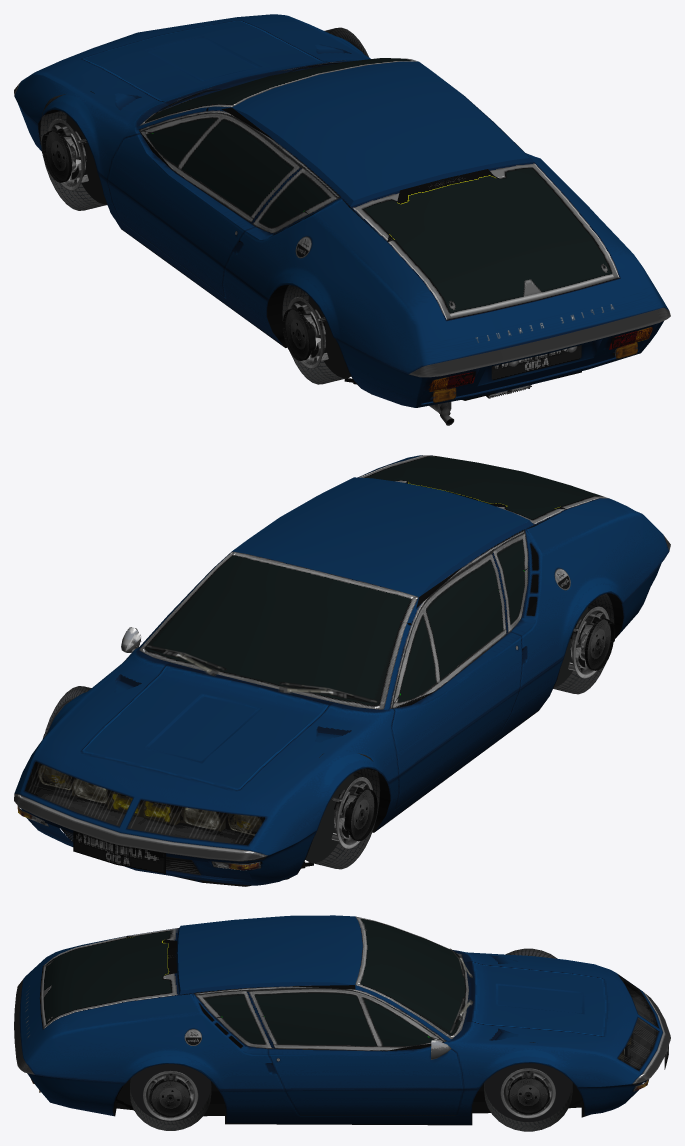
The model's file is GT4_ALPR0002.glb.
3 views of the same model, one above another, from view 1: azimuth 30°, elevation 25°; view 2: azimuth 150°, elevation 25°; view 3: azimuth 270°, elevation 25° (orthographic). The views are drawn at different scales.
Visible parts, largest first — view 1: body, tire_rear_right, tire_front_right, wheel_rear_right, wheel_front_right; view 2: body, tire_rear_right, tire_front_right, wheel_front_right, wheel_rear_right; view 3: body, tire_rear_left, tire_front_left, wheel_rear_left, wheel_front_left.
Boxes of the visible parts, x1,y1,x2,y2 form: body: [14, 14, 670, 425]; tire_rear_right: [40, 91, 107, 210]; tire_front_right: [282, 285, 350, 384]; wheel_rear_right: [47, 118, 88, 190]; wheel_front_right: [287, 297, 328, 368]; body: [14, 455, 670, 886]; tire_rear_right: [305, 753, 380, 869]; tire_front_right: [553, 593, 614, 694]; wheel_front_right: [568, 606, 609, 678]; wheel_rear_right: [331, 777, 372, 848]; body: [14, 915, 670, 1125]; tire_rear_left: [484, 1042, 572, 1131]; tire_front_left: [130, 1064, 211, 1130]; wheel_rear_left: [500, 1068, 555, 1118]; wheel_front_left: [143, 1070, 198, 1120].
Size of the model in its own units: 1.7 by 1.02 by 4.17.
Materials: 41 (41 with a texture image).
